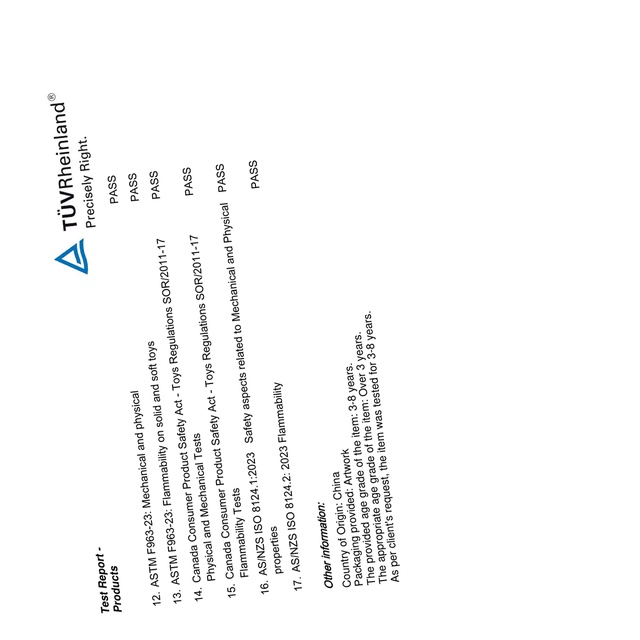tuv_rheinland: (45, 89, 98, 279)
